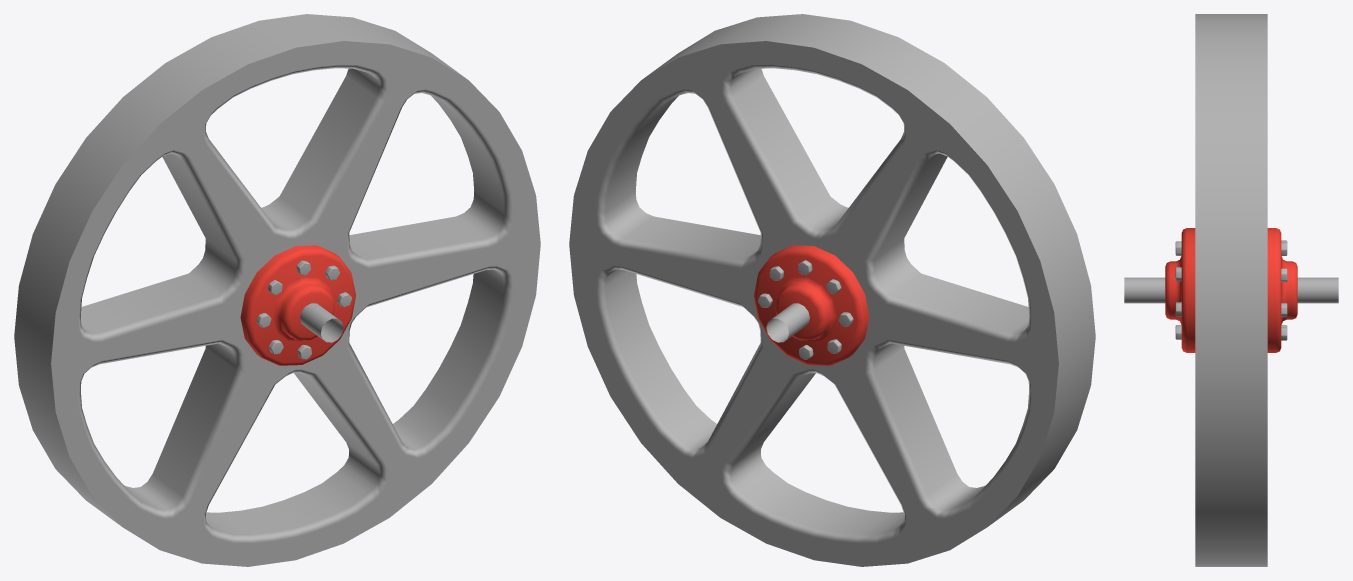
File: dynamo_1_002.fbx
3 views of the same model, side by side, from view 1: azimuth 30°, elevation 25°; view 2: azimuth 150°, elevation 25°; view 3: azimuth 270°, elevation 25° (orthographic). The views are drawn at different scales.
Visible parts, largest first — view 1: dynamo_1_002; view 2: dynamo_1_002; view 3: dynamo_1_002.
Boxes of the visible parts, x1,y1,x2,y2 form: dynamo_1_002: (14,14,540,566); dynamo_1_002: (569,14,1095,566); dynamo_1_002: (1124,14,1338,566).
Bounding box in the file's own units: 2729 × 1057 × 2729.
